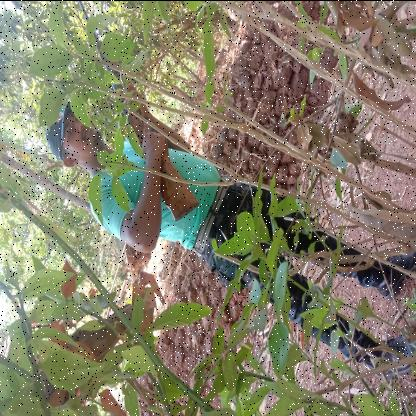rifle: (79, 0, 202, 222)
